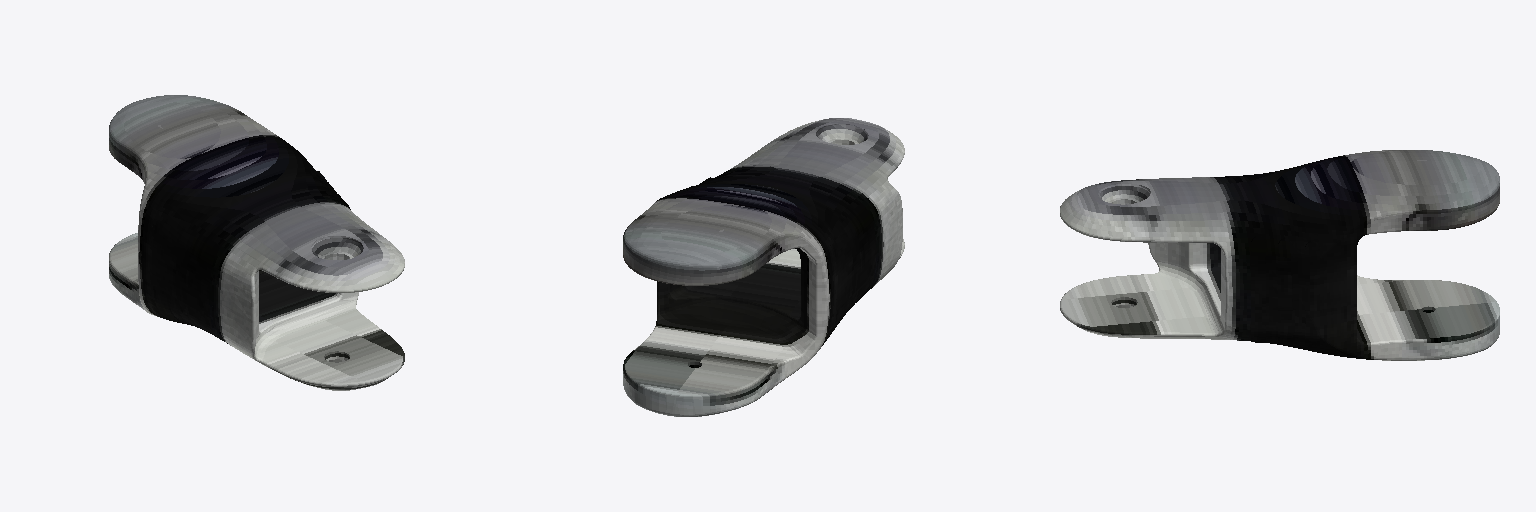
The picture shows the model from 3 angles: view 1: azimuth 30°, elevation 25°; view 2: azimuth 150°, elevation 25°; view 3: azimuth 270°, elevation 25°; orthographic projection.
Visible parts, largest first — view 1: Pinky_Proximal; view 2: Pinky_Proximal; view 3: Pinky_Proximal.
Boxes of the visible parts, x1,y1,x2,y2 form: Pinky_Proximal: [109, 95, 404, 390]; Pinky_Proximal: [623, 118, 904, 416]; Pinky_Proximal: [1060, 150, 1499, 360].
Bounding box in the file's own units: 0.0233 × 0.0209 × 0.0498.
Materials: 1 (1 with a texture image).